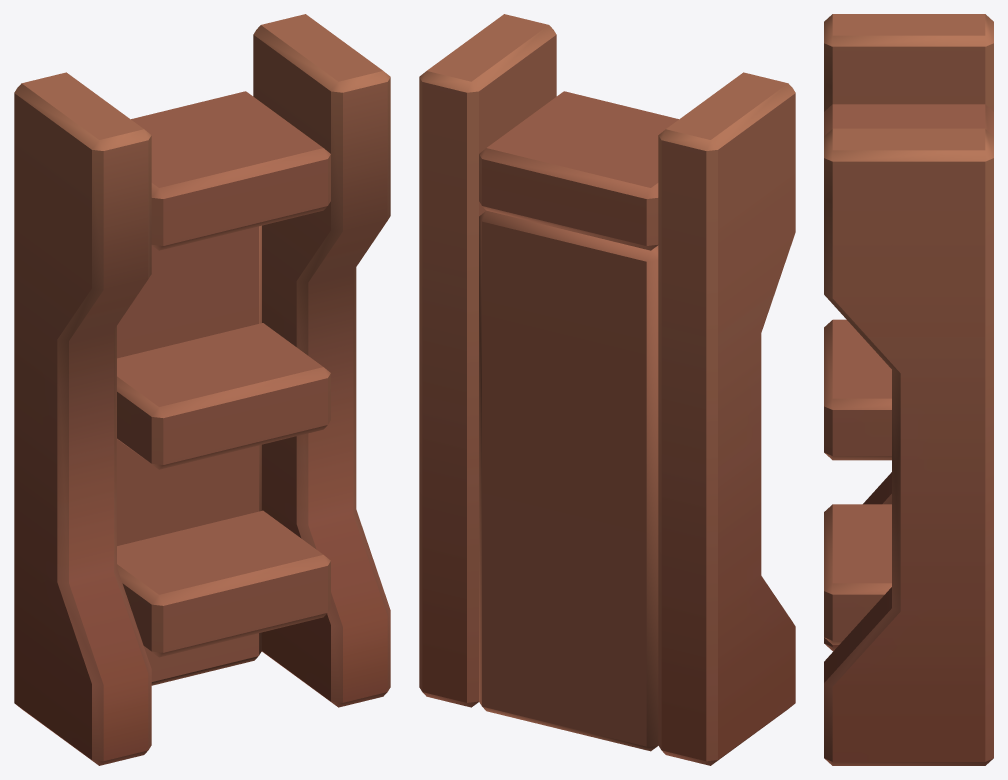
The model's file is bartop_b_small.glb.
3 views of the same model, side by side, from view 1: azimuth 30°, elevation 25°; view 2: azimuth 150°, elevation 25°; view 3: azimuth 270°, elevation 25° (orthographic).
Parts seen in each view (by area): view 1: bartop_B_small; view 2: bartop_B_small; view 3: bartop_B_small.
Part boxes in pixels (<box>): bartop_B_small: <box>14,14,390,765</box>; bartop_B_small: <box>419,14,795,765</box>; bartop_B_small: <box>824,14,993,765</box>.
Size of the model in its own units: 0.9998 by 2 by 0.5001.
Materials: 1 (1 with a texture image).
